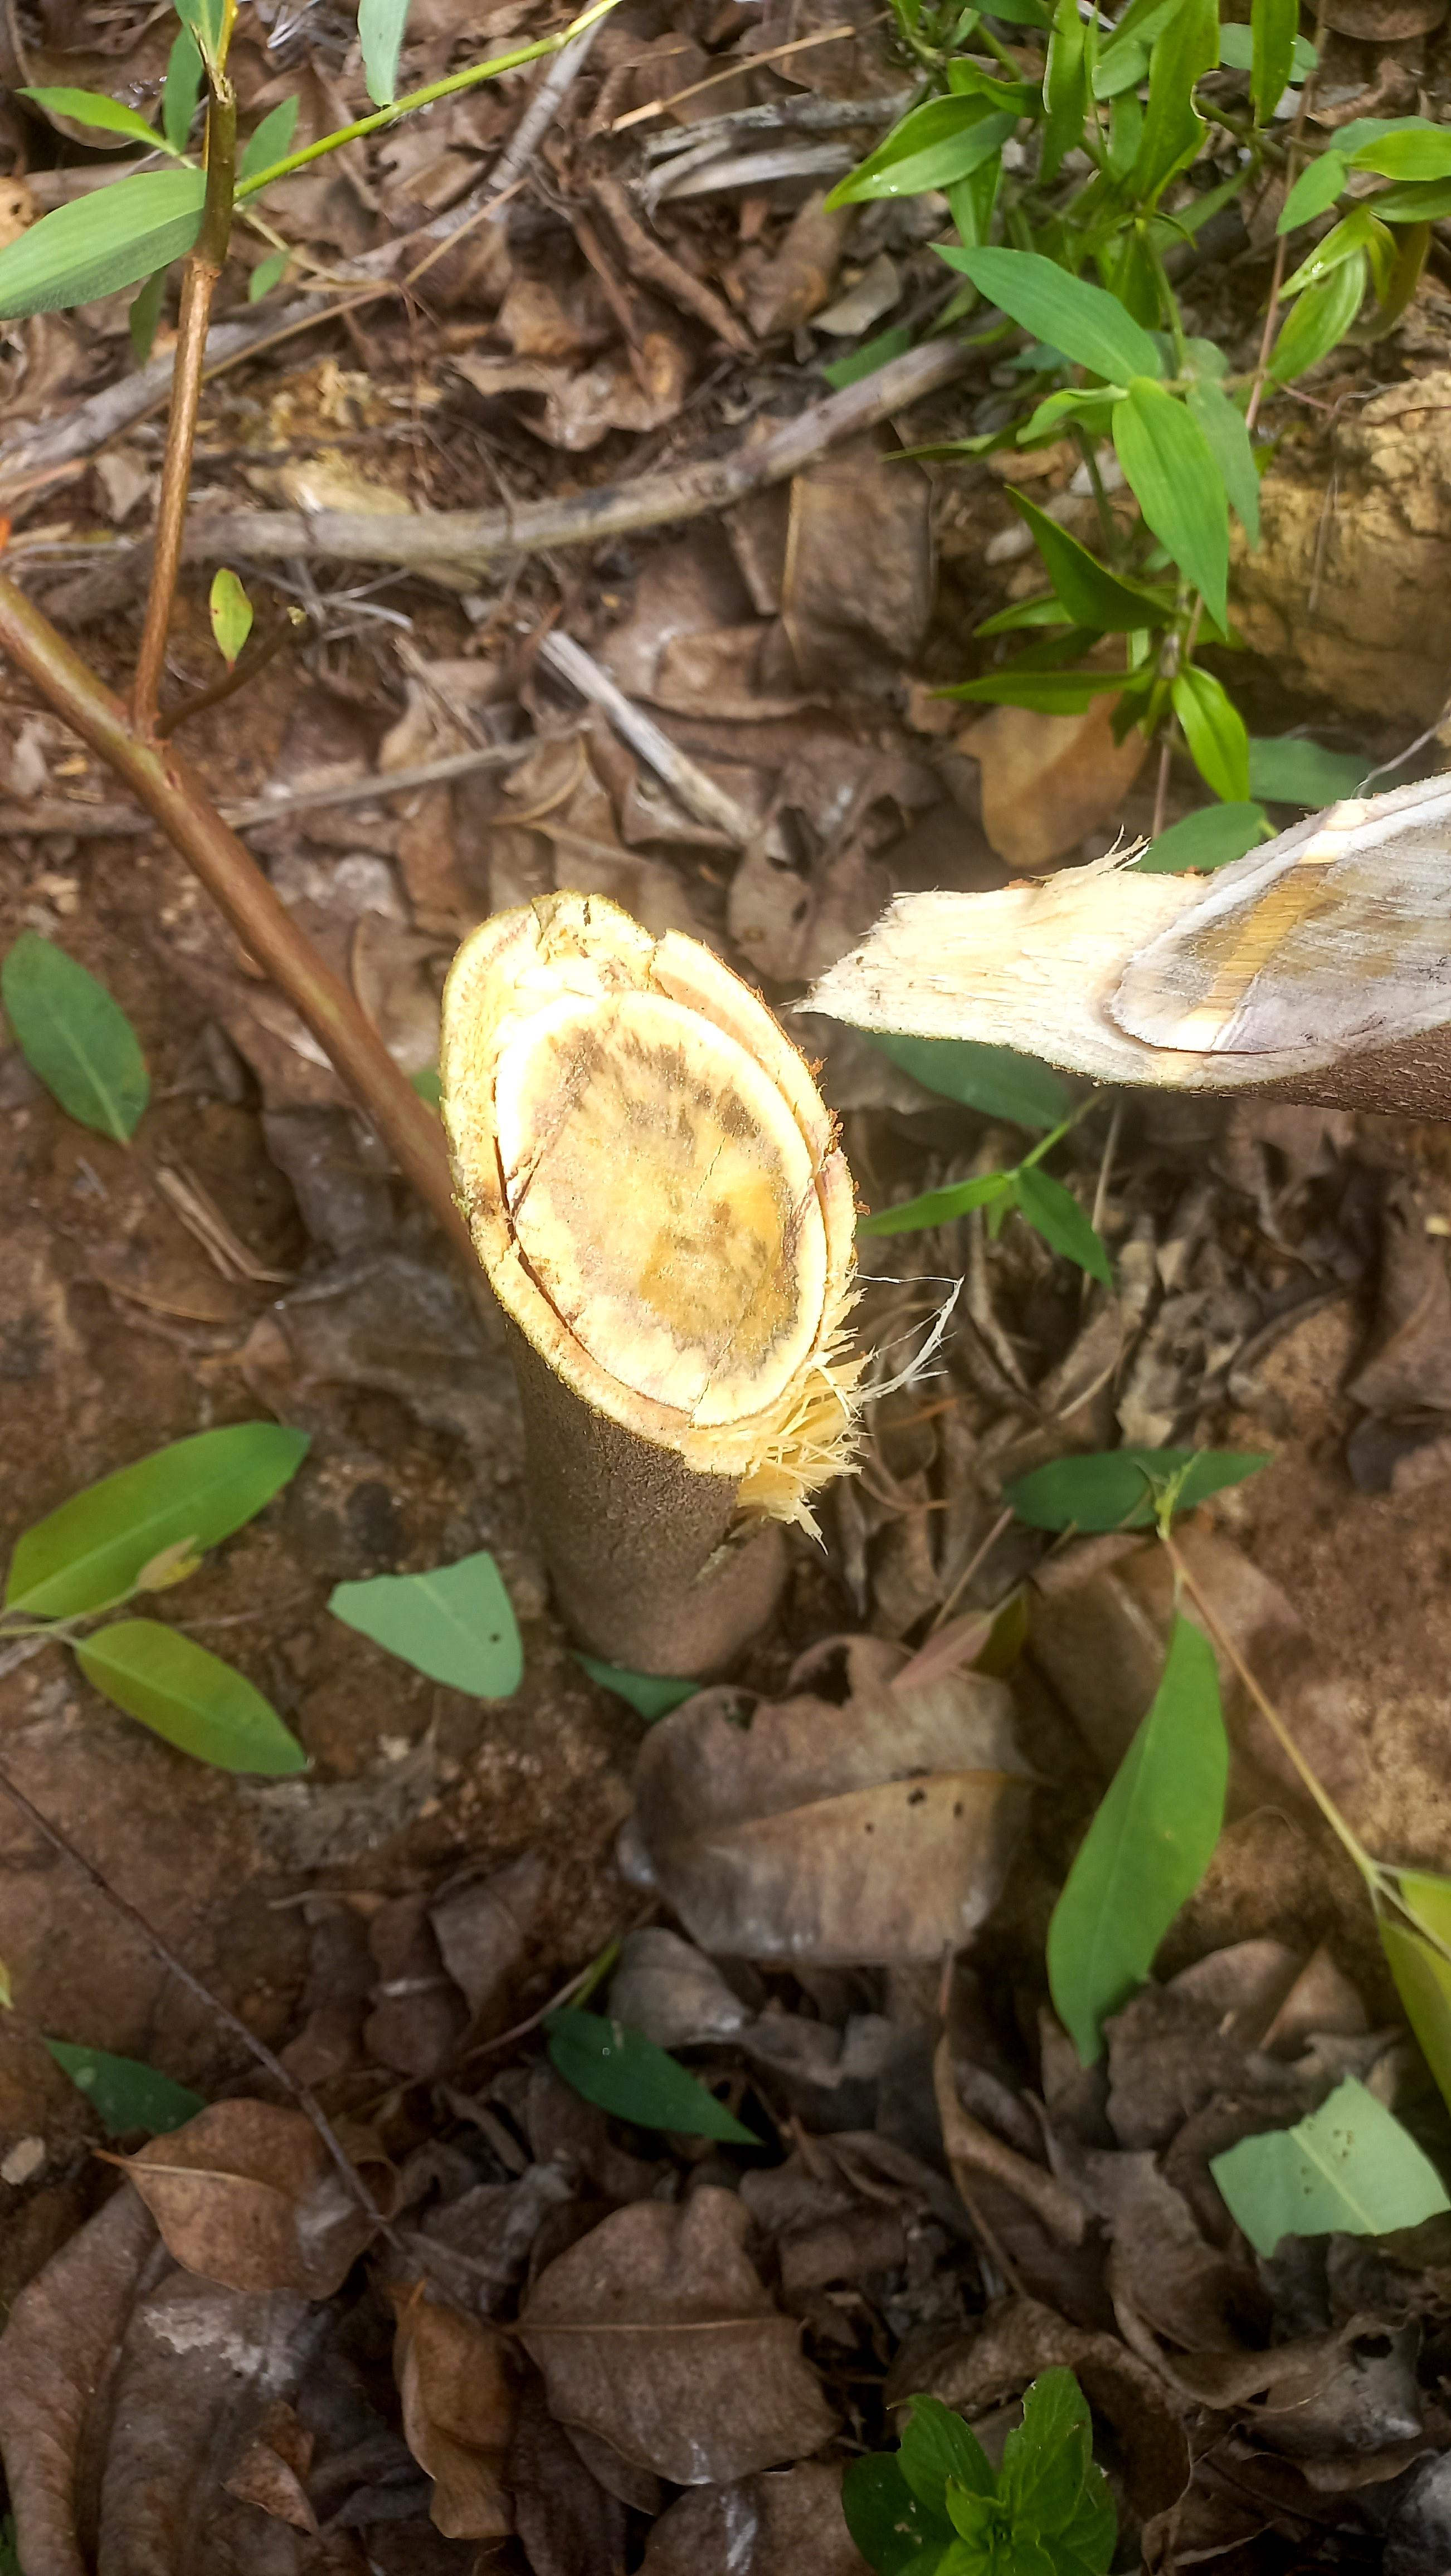Ralstonia: (545, 1157, 619, 1297), (658, 1056, 761, 1145), (687, 1299, 768, 1369), (534, 1049, 595, 1139), (671, 1210, 731, 1288), (1299, 916, 1389, 968), (1157, 947, 1216, 1007), (1363, 867, 1423, 913), (1210, 901, 1256, 927), (637, 1283, 658, 1330)
